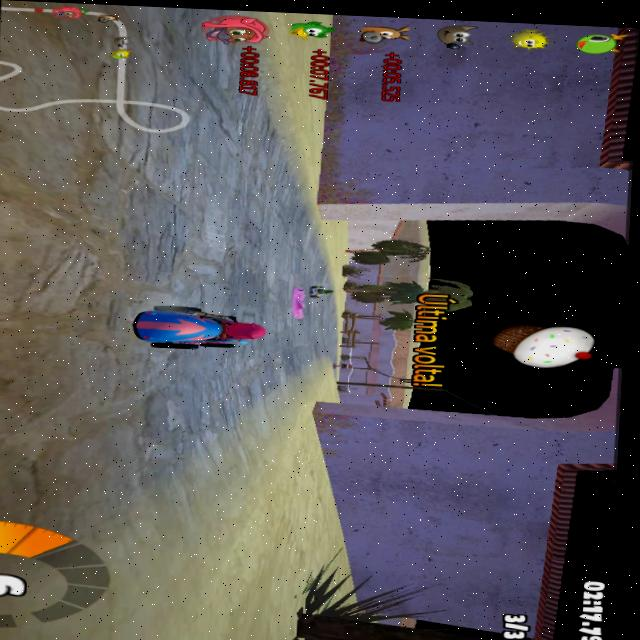obstacle: (286, 288, 312, 324)
player_kart: (141, 306, 256, 357)
track: (0, 7, 230, 305), (0, 296, 137, 555), (217, 123, 285, 308), (147, 354, 254, 447), (281, 216, 317, 288), (308, 304, 344, 359), (272, 326, 307, 377)
